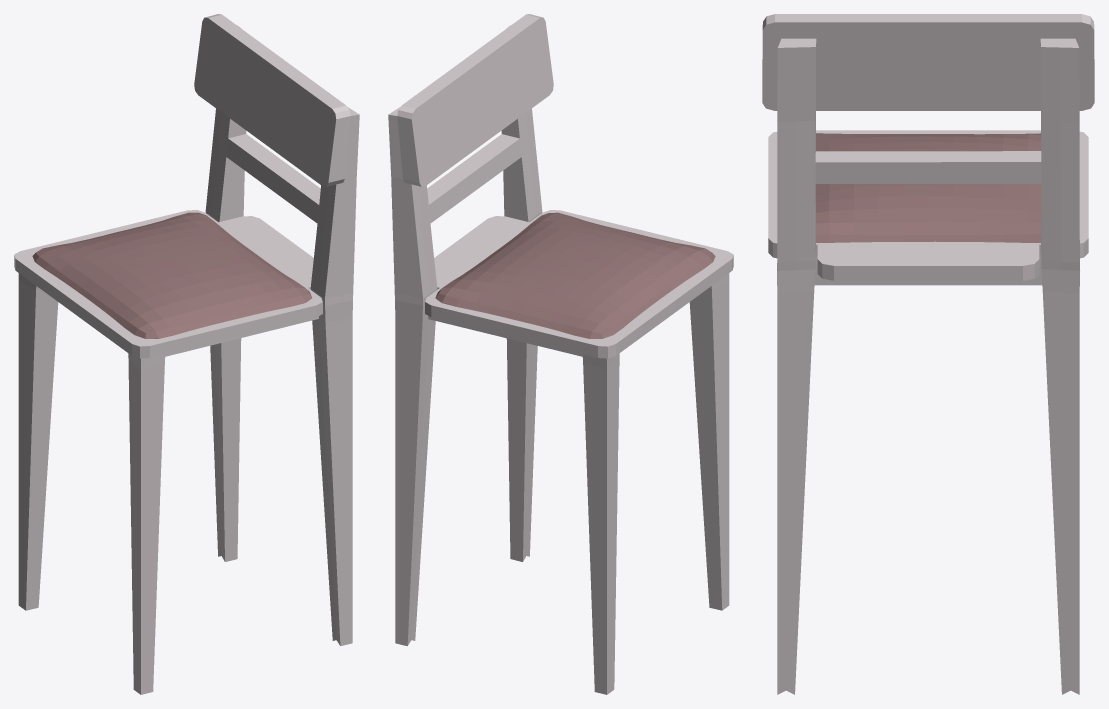
Rendered from BasicBarChair.fbx.
3 renders of one model, left to right at view 1: azimuth 30°, elevation 25°; view 2: azimuth 150°, elevation 25°; view 3: azimuth 270°, elevation 25°, orthographic. The views are drawn at different scales.
Parts seen in each view (by area): view 1: BasicBarChair; view 2: BasicBarChair; view 3: BasicBarChair.
Part boxes in pixels (x1,y1,x2,y2): BasicBarChair: [14, 14, 359, 694]; BasicBarChair: [388, 14, 733, 694]; BasicBarChair: [762, 14, 1094, 694].
Size of the model in its own units: 58.62 by 135 by 60.68.
